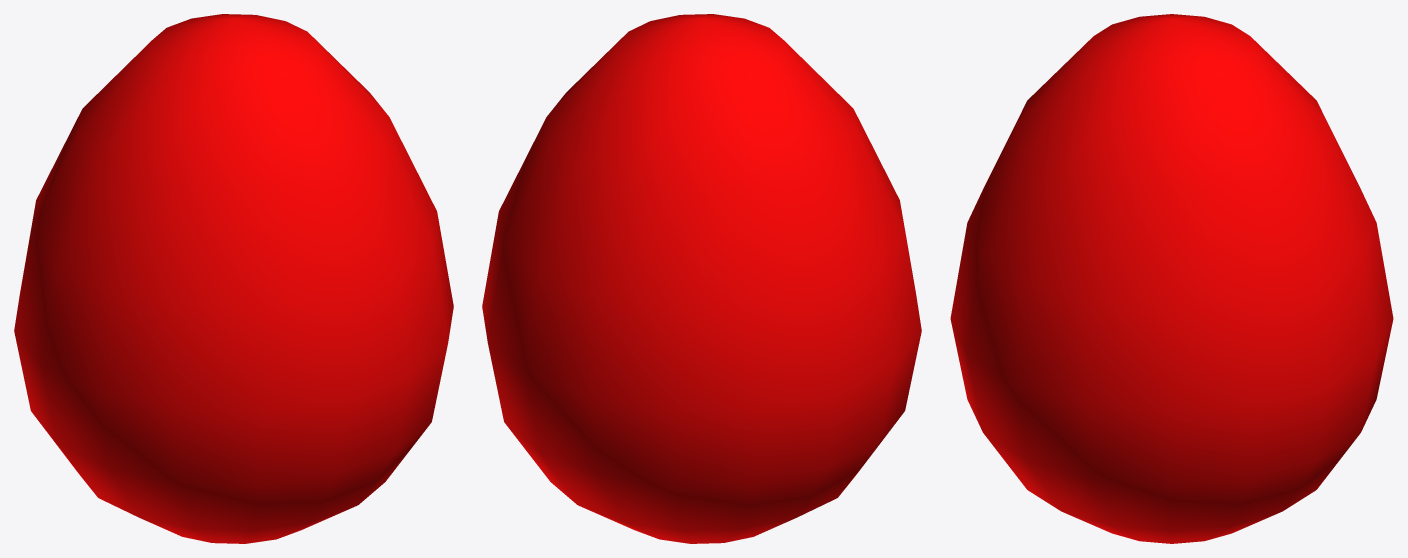
Rendered from eggRed.glb.
3 renders of one model, left to right at view 1: azimuth 30°, elevation 25°; view 2: azimuth 150°, elevation 25°; view 3: azimuth 270°, elevation 25°, orthographic.
Visible parts, largest first — view 1: Sphere007; view 2: Sphere007; view 3: Sphere007.
Boxes of the visible parts, <box> form: Sphere007: <box>14,14,453,543</box>; Sphere007: <box>482,14,921,543</box>; Sphere007: <box>950,14,1393,543</box>.
Bounding box in the file's own units: 0.1403 × 0.1761 × 0.1403.
